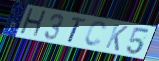3: (44, 13, 64, 41)
5: (125, 27, 151, 56)
C: (83, 20, 107, 48)
H: (18, 7, 48, 39)
K: (103, 23, 129, 53)
T: (66, 16, 88, 44)
